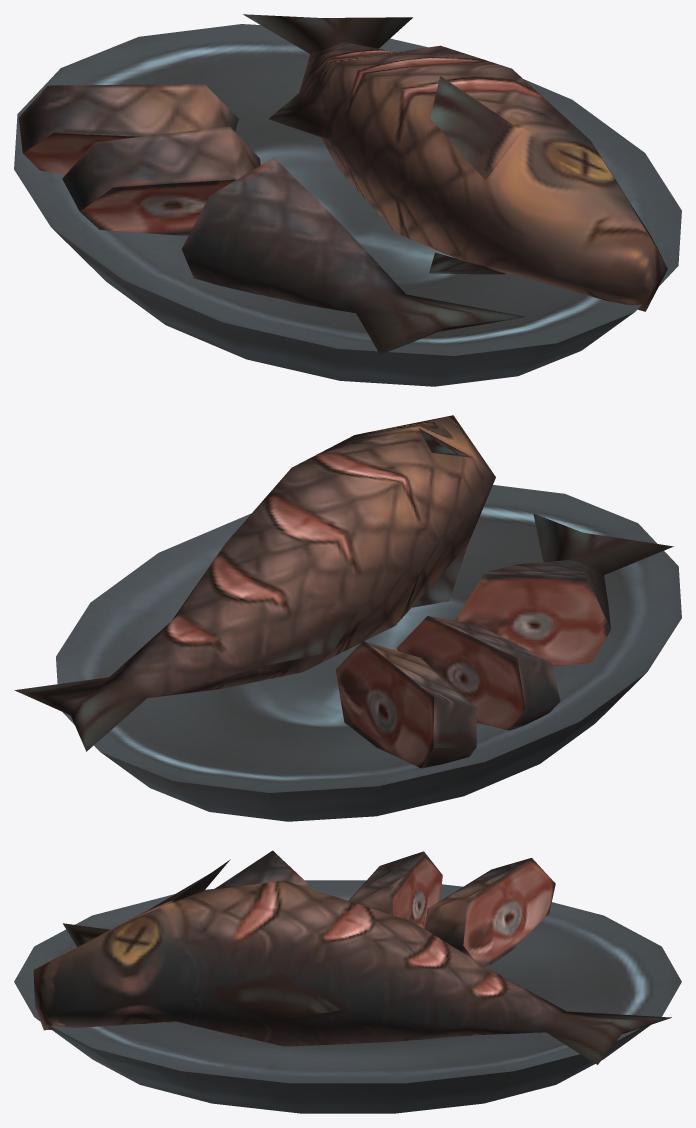
The model's file is fish_dish.fbx.
The picture shows the model from 3 angles, top to bottom: view 1: azimuth 30°, elevation 25°; view 2: azimuth 150°, elevation 25°; view 3: azimuth 270°, elevation 25°; orthographic projection. The views are drawn at different scales.
Visible parts, largest first — view 1: fish_dish; view 2: fish_dish; view 3: fish_dish.
Boxes of the visible parts, x1=… form: fish_dish: x1=14, y1=14, x2=681, y2=386; fish_dish: x1=14, y1=415, x2=681, y2=821; fish_dish: x1=14, y1=850, x2=681, y2=1113.
Bounding box in the file's own units: 56.97 × 23.47 × 79.19.
